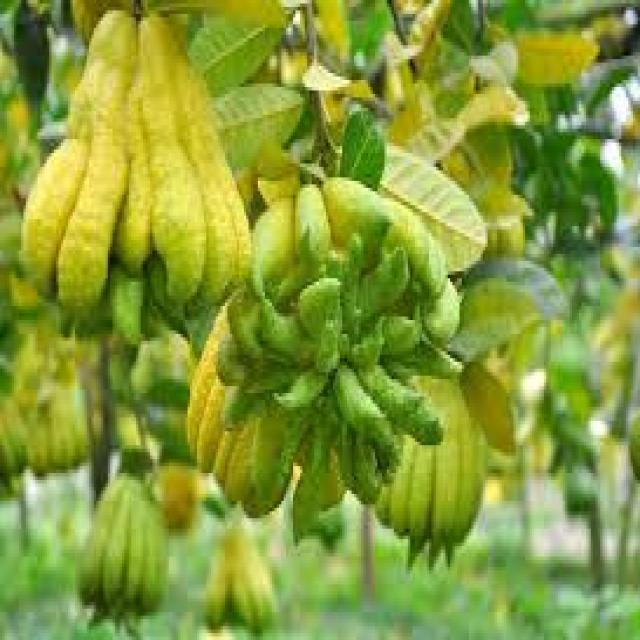PhatThu: (167, 136, 474, 555), (17, 15, 254, 348)
